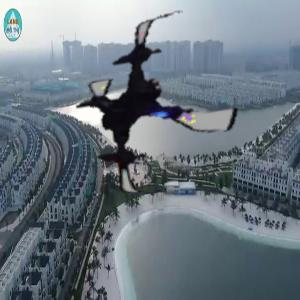drone: (65, 11, 254, 200)
